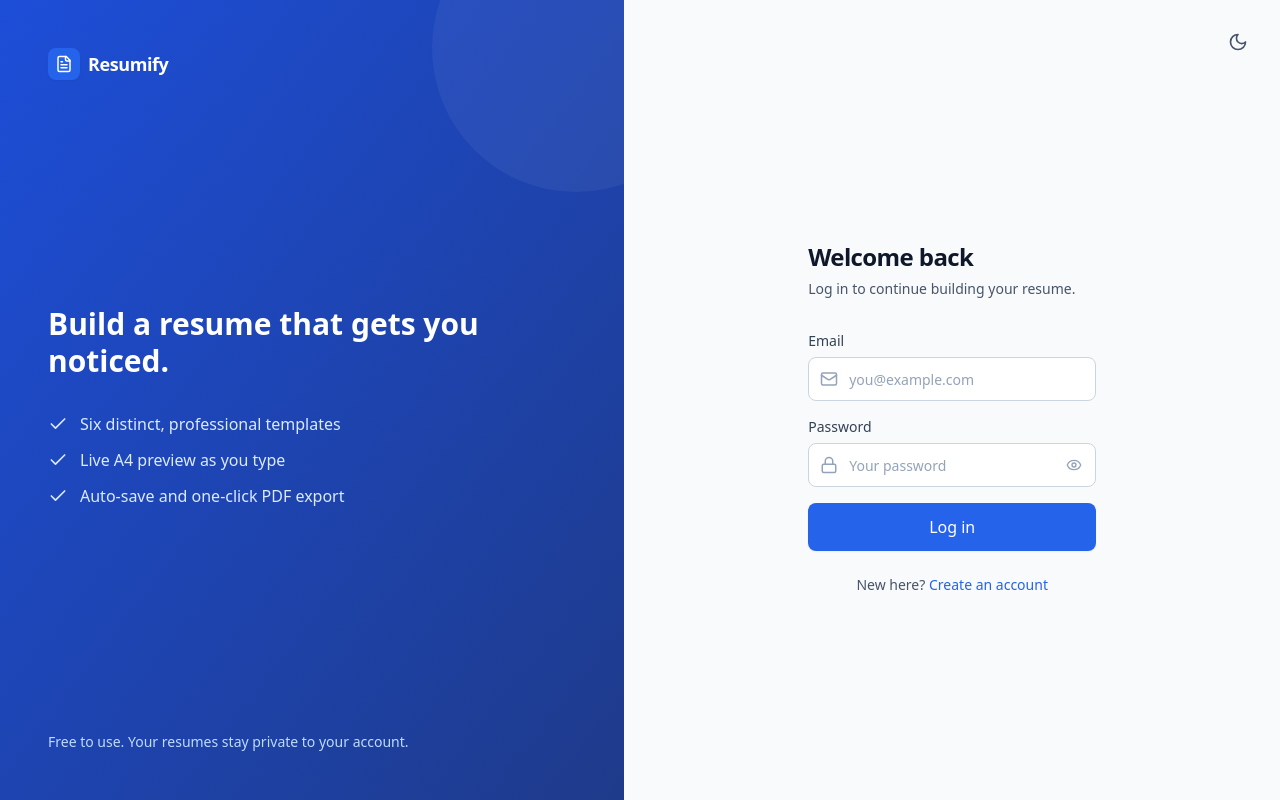
Scenario: auth forms › login shows validation errors then surfaces a server error
Step 1. Click the button "Log in" → point(952, 527), box [808,503,1096,551]
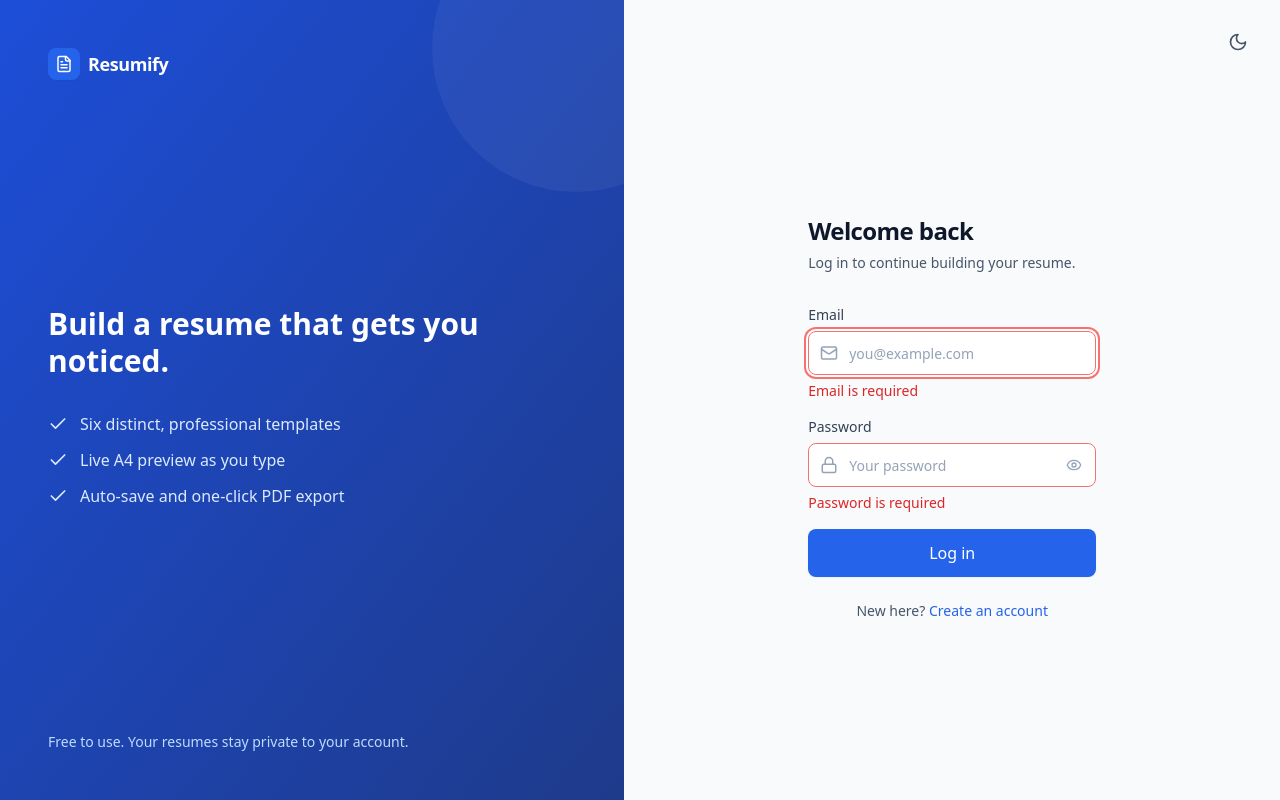
Expected: the text "Email is required" is shown, [808,381,918,400]
Expected: the text "Password is required" is shown, [808,493,945,512]
Step 2. Type "a@b.co" into the field labelled "Email" → point(952, 353), box [808,331,1096,375]
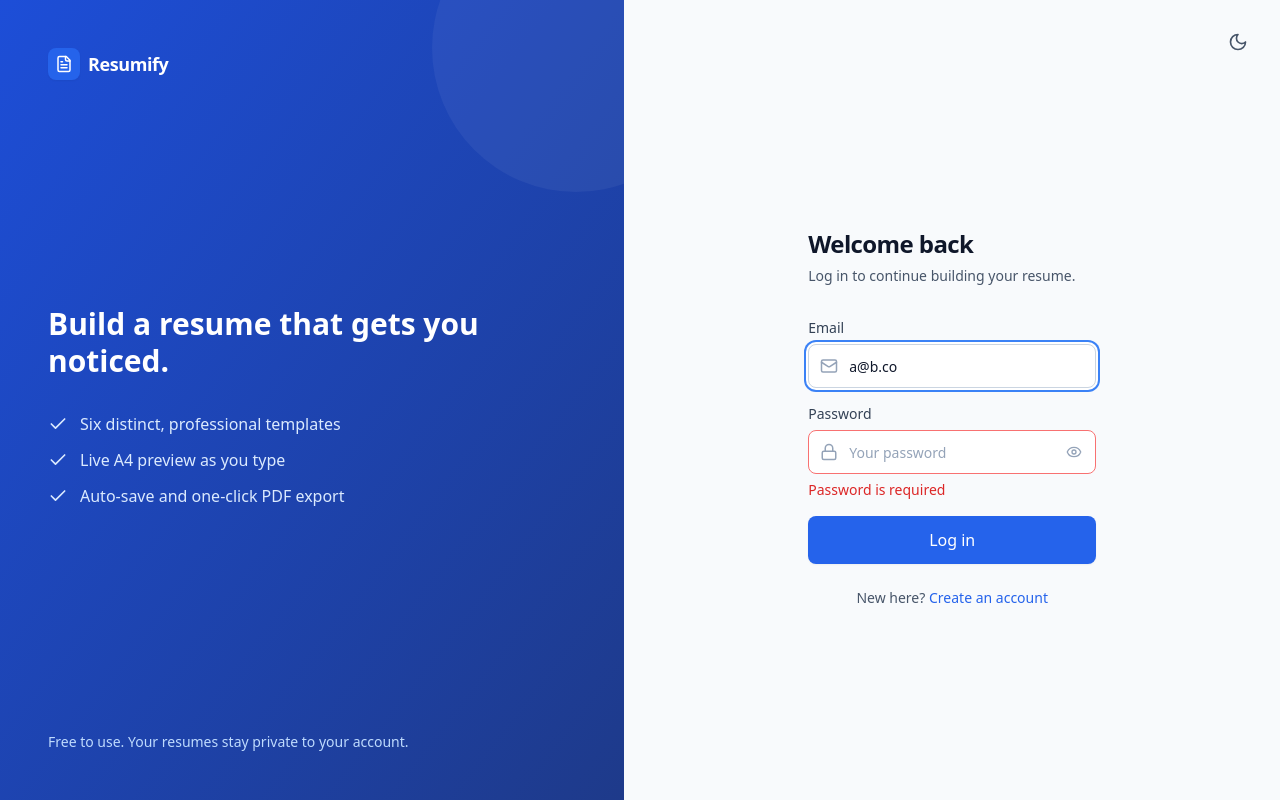
Step 3. Type "wrong-pass1" into the password field labelled "Password" → point(952, 452), box [808,430,1096,474]
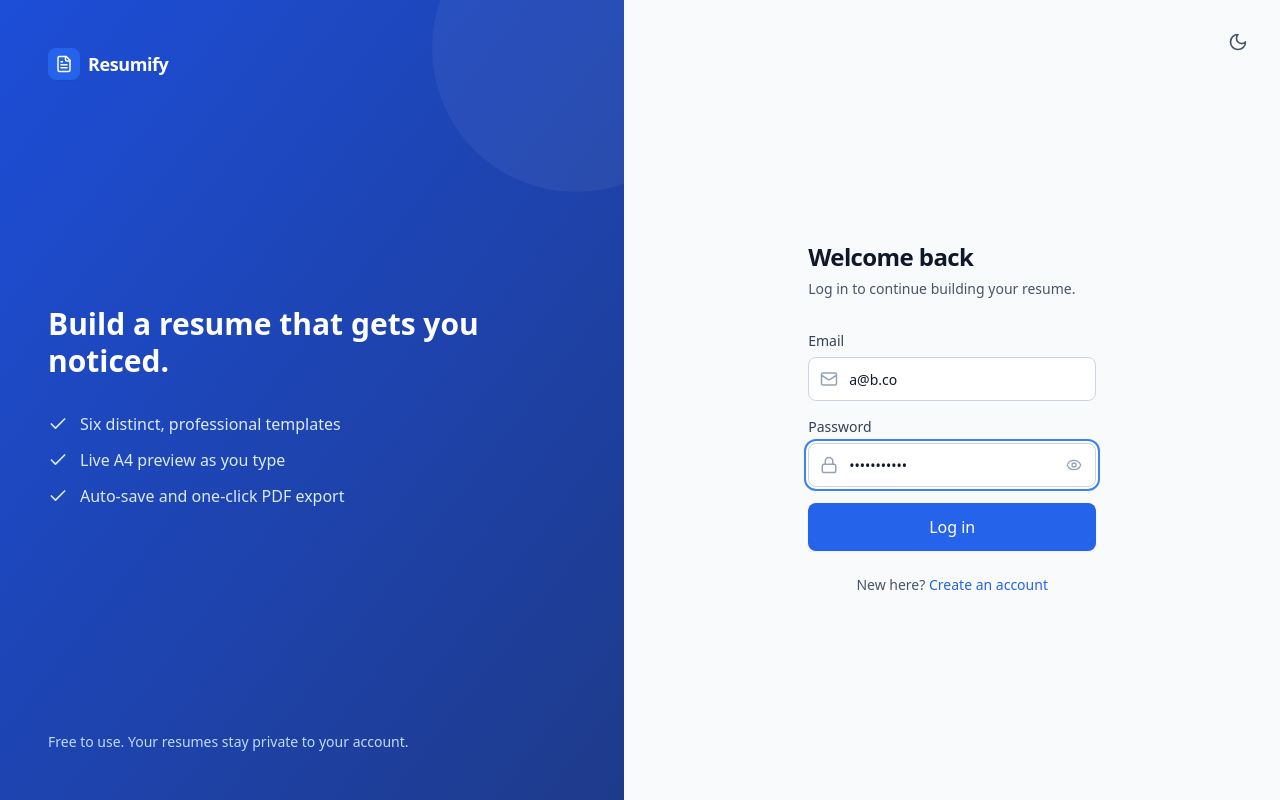
Step 4. Click the button "Log in" → point(952, 527), box [808,503,1096,551]
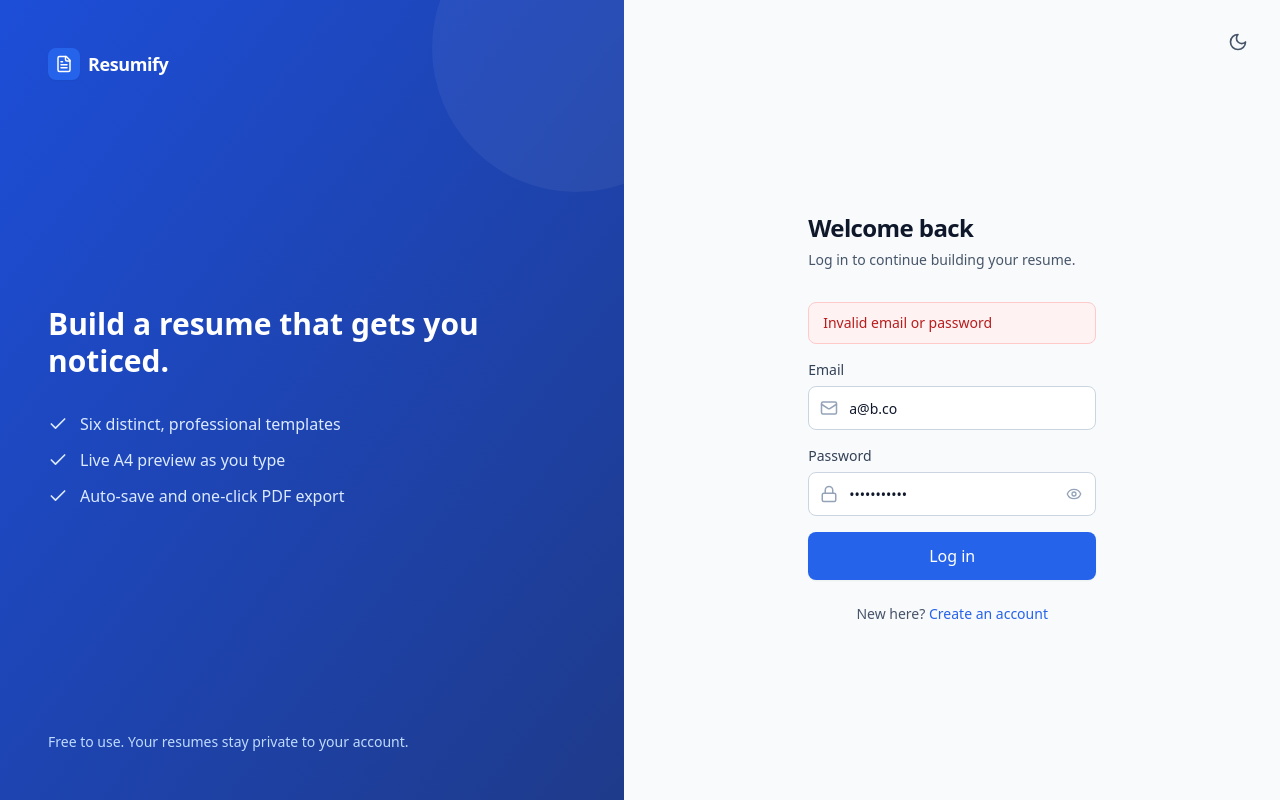
Expected: the message reads "Invalid email or password", [823,313,992,332]
